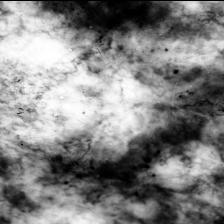Potentially Malignant Skin Tumors: (47, 144, 166, 204)
